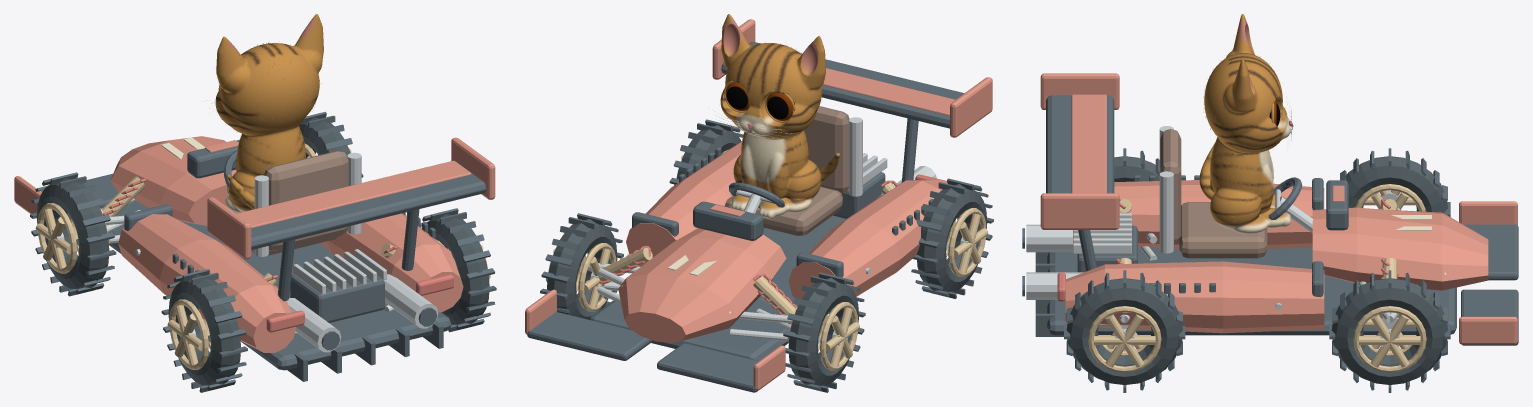
File: fastrat_kart.glb
3 renders of one model, left to right at view 1: azimuth 30°, elevation 25°; view 2: azimuth 150°, elevation 25°; view 3: azimuth 270°, elevation 25°, orthographic. The views are drawn at different scales.
Visible parts, largest first — view 1: Continuous feline anatomy, Radiator sidepod, Undertray, Long sculpted nose, Rear aerofoil, Radiator sidepod.001, Rear wing enamel, Profiled racing tyre, Profiled racing tyre.001, Seat back, Profiled racing tyre.003, Engine block (+20 smaller); view 2: Continuous feline anatomy, Long sculpted nose, Radiator sidepod, Undertray, Radiator sidepod.001, Profiled racing tyre, Profiled racing tyre.001, Front wing.001, Rear aerofoil, Profiled racing tyre.002, Front wing, Seat back (+23 smaller); view 3: Continuous feline anatomy, Radiator sidepod.001, Long sculpted nose, Profiled racing tyre.002, Profiled racing tyre.003, Undertray, Radiator sidepod, Rear wing enamel, Bucket seat, Rear aerofoil, Profiled racing tyre, Wing endplate.002 (+19 smaller).
Boxes of the visible parts, x1,y1,x2,y2 form: Continuous feline anatomy: [215, 14, 323, 212]; Radiator sidepod: [118, 214, 296, 352]; Undertray: [108, 201, 451, 370]; Long sculpted nose: [110, 136, 236, 225]; Rear aerofoil: [251, 161, 486, 249]; Radiator sidepod.001: [320, 213, 463, 312]; Rear wing enamel: [236, 160, 471, 227]; Profiled racing tyre: [36, 178, 109, 289]; Profiled racing tyre.001: [168, 274, 240, 385]; Seat back: [264, 151, 348, 250]; Profiled racing tyre.003: [427, 214, 489, 325]; Engine block: [290, 274, 384, 322]; Continuous feline anatomy: [720, 14, 825, 219]; Long sculpted nose: [618, 228, 786, 343]; Radiator sidepod: [788, 179, 947, 313]; Undertray: [590, 215, 845, 360]; Radiator sidepod.001: [626, 142, 741, 266]; Profiled racing tyre: [788, 277, 858, 385]; Profiled racing tyre.001: [917, 184, 987, 292]; Front wing.001: [527, 312, 652, 360]; Rear aerofoil: [721, 42, 964, 128]; Profiled racing tyre.002: [547, 219, 617, 319]; Front wing: [657, 343, 758, 392]; Seat back: [804, 106, 849, 193]; Continuous feline anatomy: [1204, 14, 1290, 233]; Radiator sidepod.001: [1065, 261, 1324, 333]; Long sculpted nose: [1312, 207, 1488, 290]; Profiled racing tyre.002: [1331, 278, 1447, 384]; Profiled racing tyre.003: [1066, 278, 1182, 384]; Undertray: [1047, 247, 1456, 335]; Radiator sidepod: [1114, 180, 1324, 248]; Rear wing enamel: [1071, 94, 1106, 193]; Bucket seat: [1179, 202, 1267, 258]; Rear aerofoil: [1046, 95, 1114, 193]; Profiled racing tyre: [1345, 156, 1447, 213]; Wing endplate.002: [1040, 193, 1119, 229].
Bounding box in the file's own units: 2.59 × 2.43 × 3.78.
Materials: 14 (2 with a texture image).
